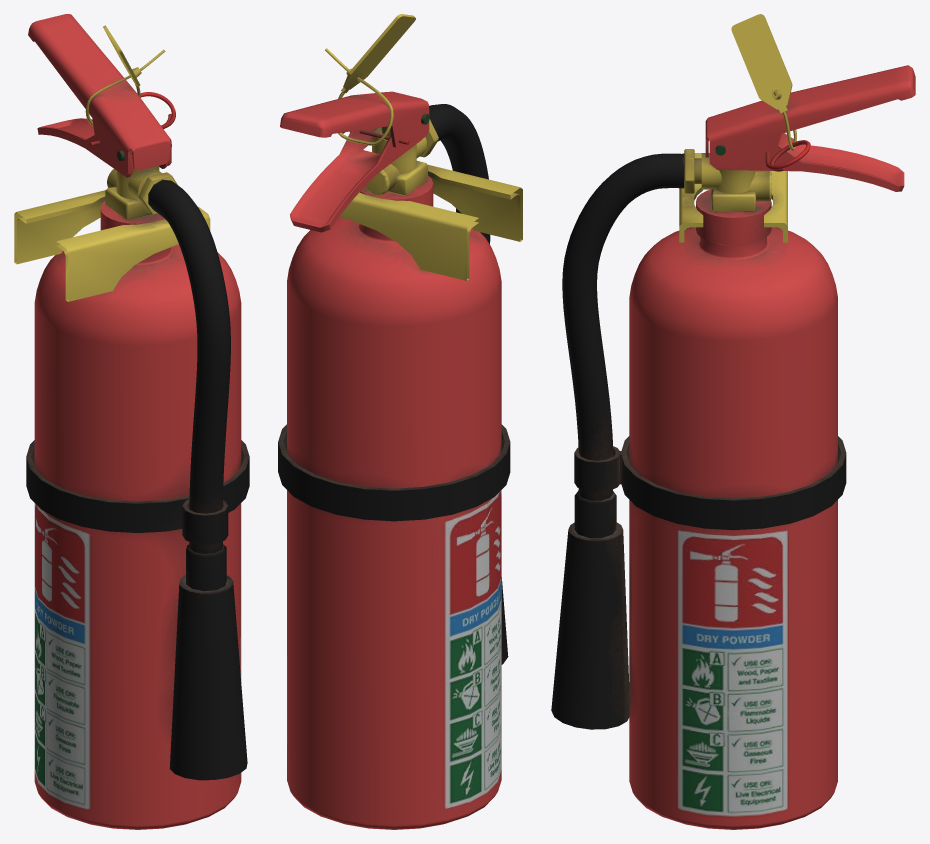
Rendered from SM_Fire_Extinguisher.glb.
The picture shows the model from 3 angles, left to right: view 1: azimuth 30°, elevation 25°; view 2: azimuth 150°, elevation 25°; view 3: azimuth 270°, elevation 25°; orthographic projection. The views are drawn at different scales.
Visible parts, largest first — view 1: SM_Fire_Extinguisher; view 2: SM_Fire_Extinguisher; view 3: SM_Fire_Extinguisher.
Boxes of the visible parts, x1,y1,x2,y2 form: SM_Fire_Extinguisher: (14, 14, 249, 829); SM_Fire_Extinguisher: (278, 14, 522, 829); SM_Fire_Extinguisher: (551, 14, 915, 829).
Bounding box in the file's own units: 0.1828 × 0.6855 × 0.2953.
1 material, 1 textured.
